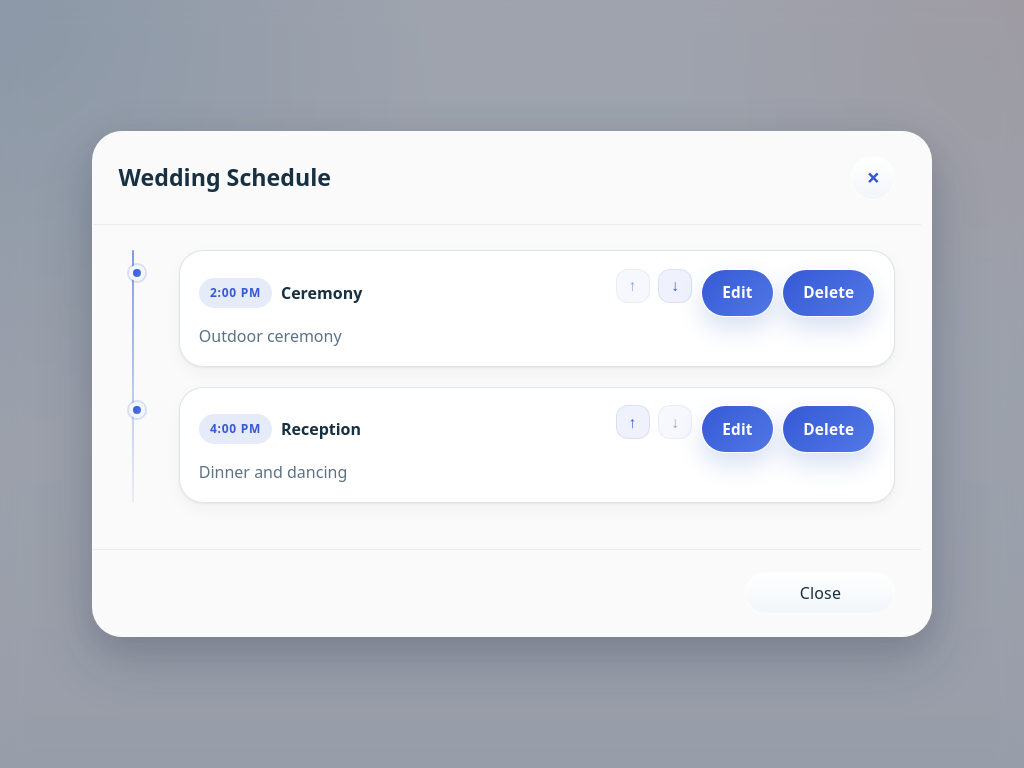
Scenario: ScheduleModal › saves an edited event and closes the edit modal
Click the button "Edit" in the row of "2:00 PM" at (737, 293), box left=701, top=269, right=774, bottom=317
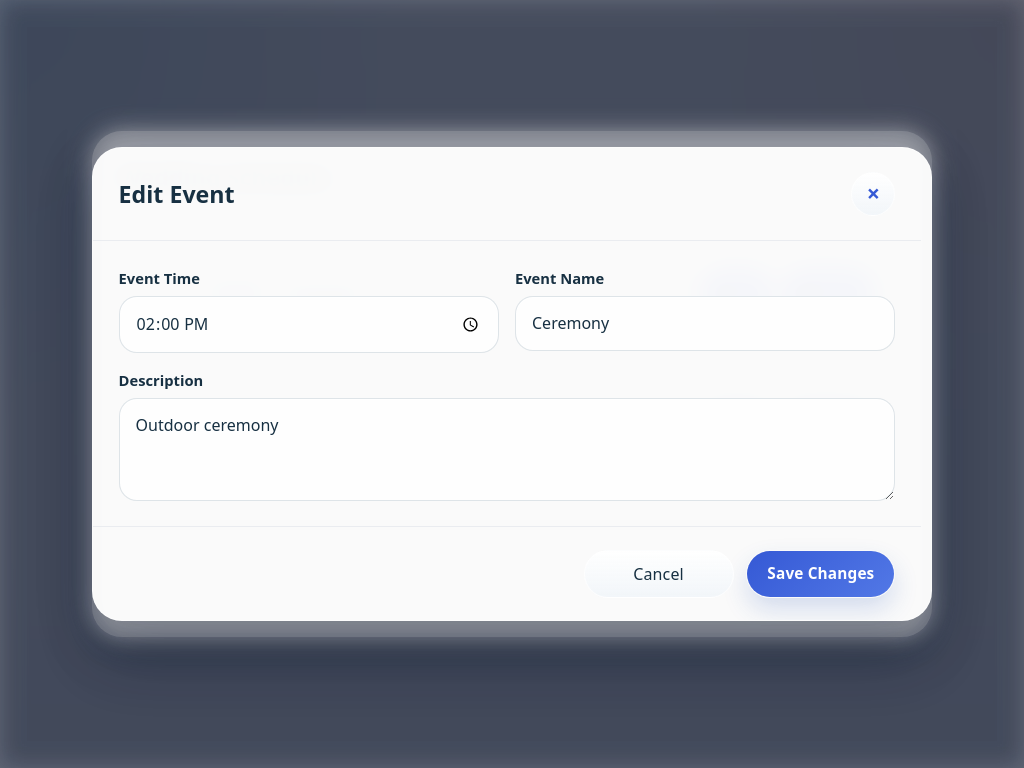
Expected: the heading "Edit Event" is shown, left=119, top=176, right=235, bottom=211
Note: Change the event name in the EditEventModal form
Replace the text in the field showing "Ceremony" with "Wedding Ceremony" at (705, 323), box left=515, top=296, right=895, bottom=351
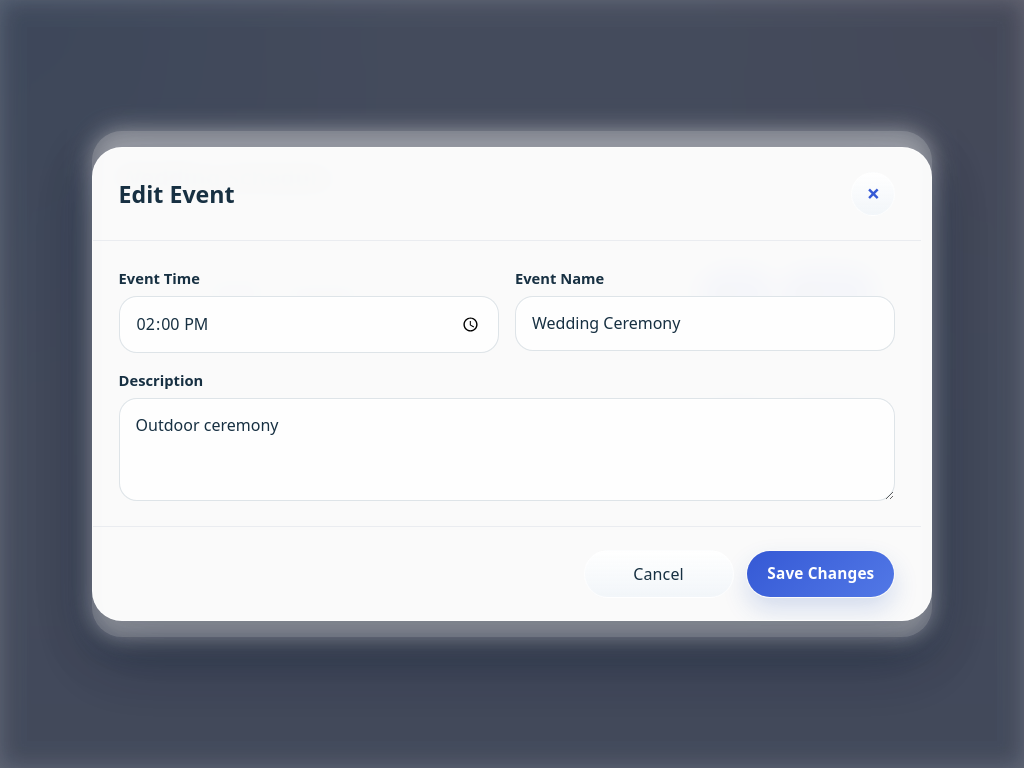
Click the button "Save Changes" at (821, 574), box left=746, top=550, right=895, bottom=598
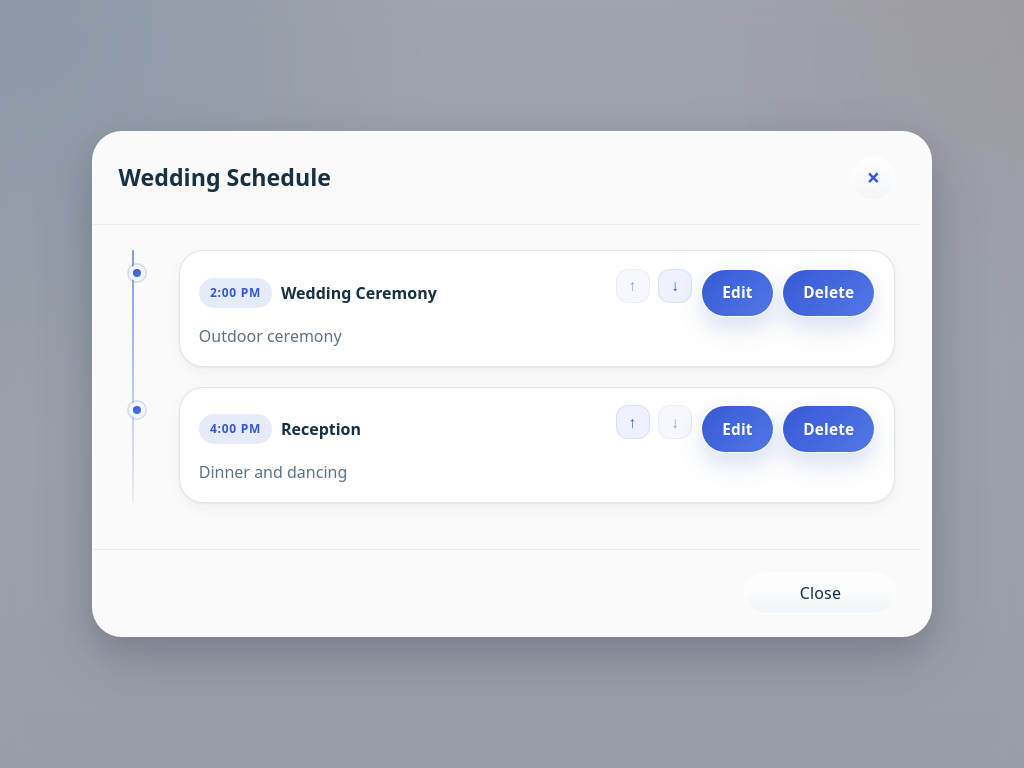
Expected: the heading "Edit Event" is gone
